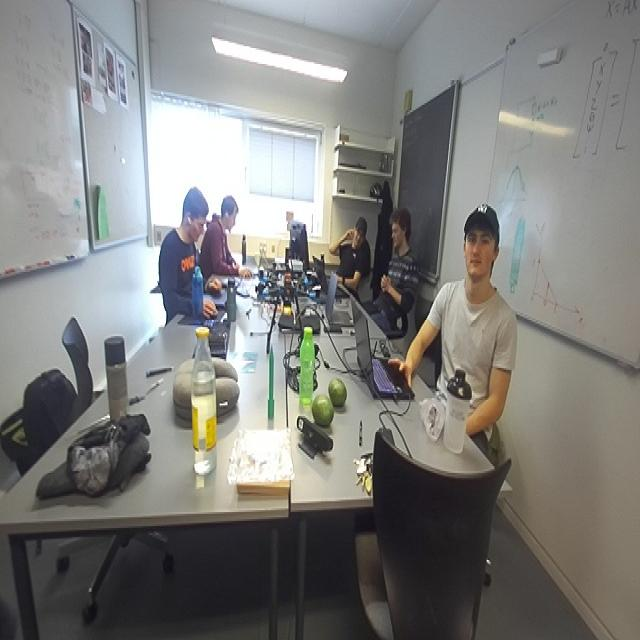probe: (267, 345, 273, 427)
